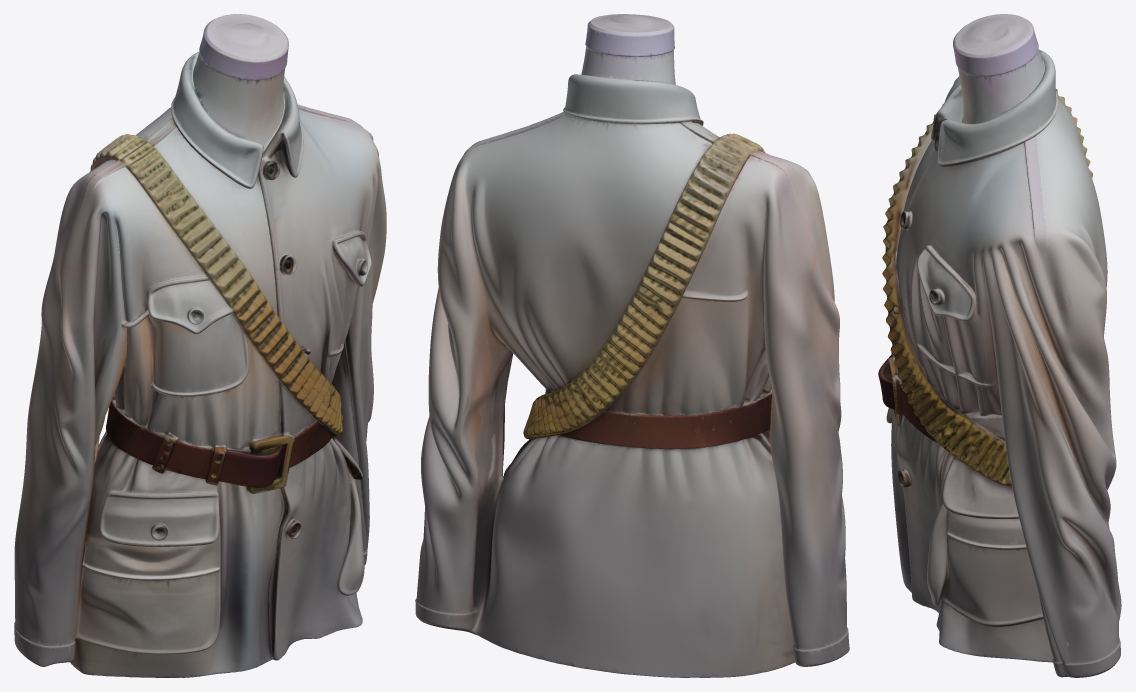
File: 抗战时期新四军军装.glb
3 views of the same model, side by side, from view 1: azimuth 30°, elevation 25°; view 2: azimuth 150°, elevation 25°; view 3: azimuth 270°, elevation 25° (orthographic). The views are drawn at different scales.
Parts seen in each view (by area): view 1: texture_pbr_v128; view 2: texture_pbr_v128; view 3: texture_pbr_v128.
Part boxes in pixels (box(x1,y1,x2,y2)): texture_pbr_v128: box(14, 14, 386, 677); texture_pbr_v128: box(415, 14, 849, 677); texture_pbr_v128: box(878, 14, 1121, 677).
Bounding box in the file's own units: 0.6566 × 0.9968 × 0.3783.
1 material, 1 textured.
